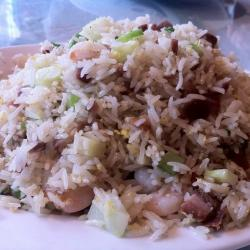rice: (34, 57, 215, 199)
